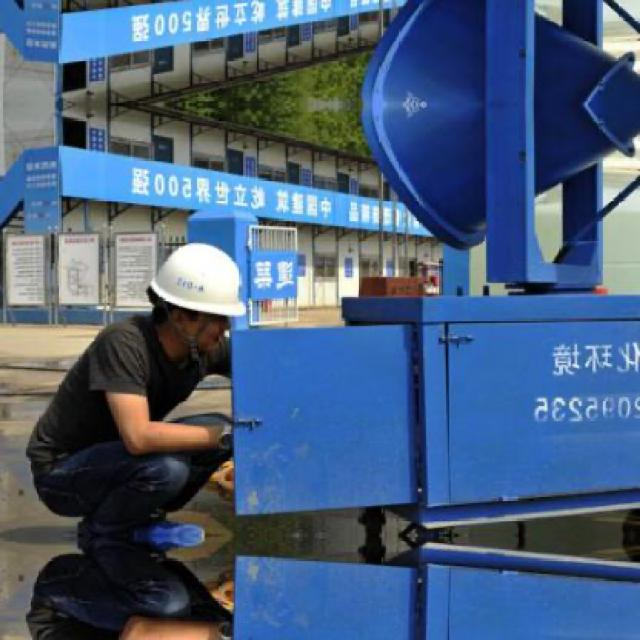helmet: (146, 228, 260, 364)
